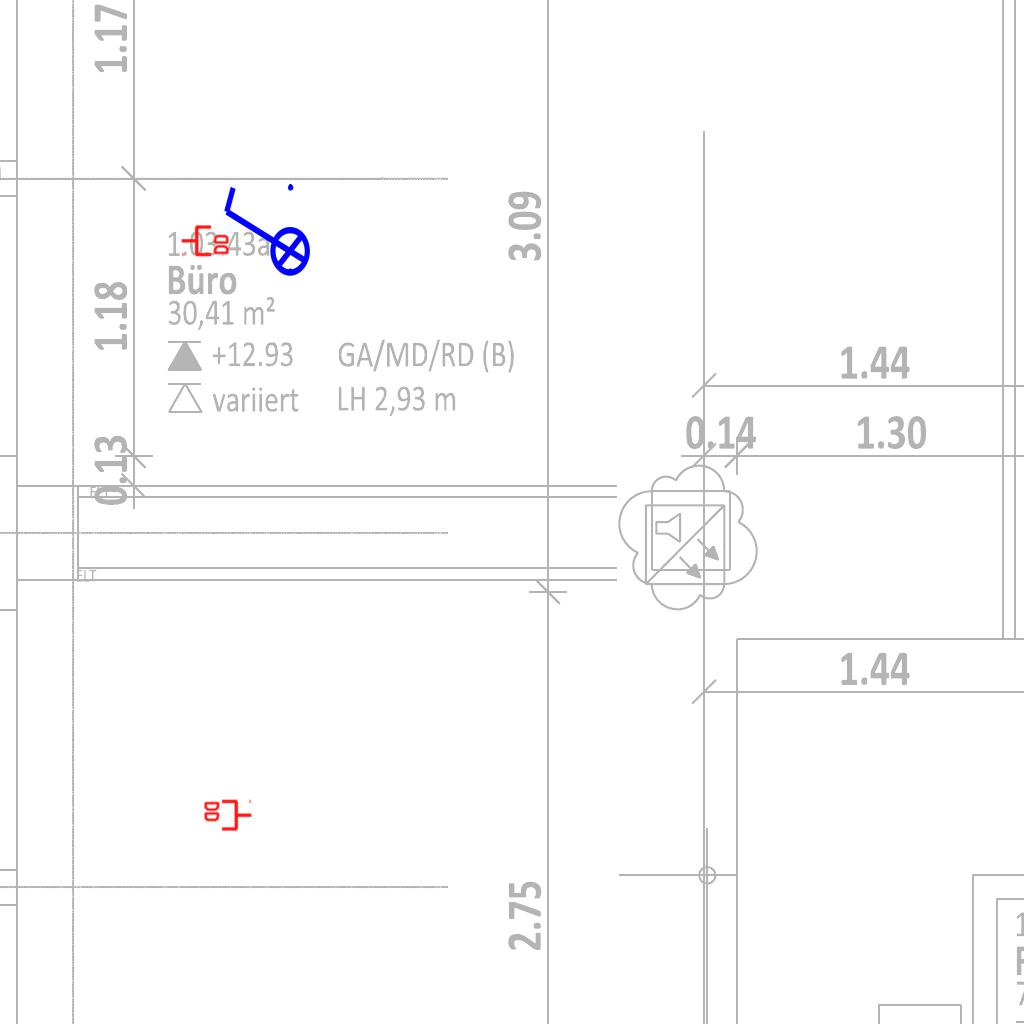Ausschalter_beleuchtet: (216, 178, 312, 290)
Datenanschluss_zweifach: (202, 799, 253, 833), (180, 223, 231, 257)
